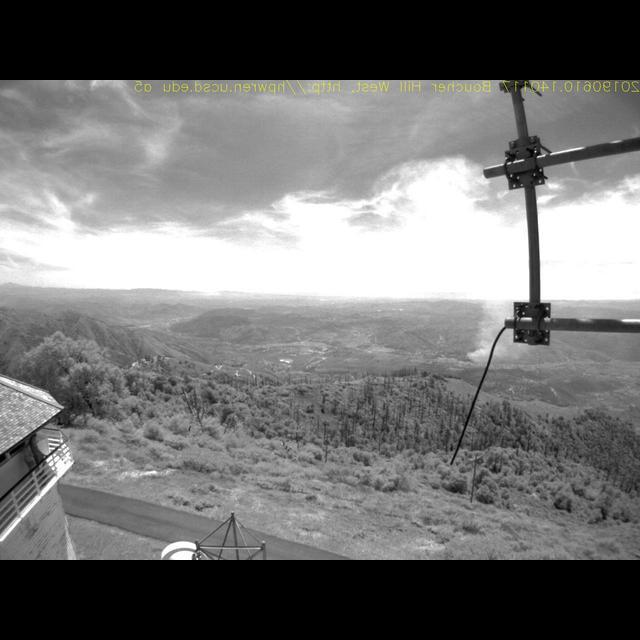Smoke: (470, 293, 517, 362)
